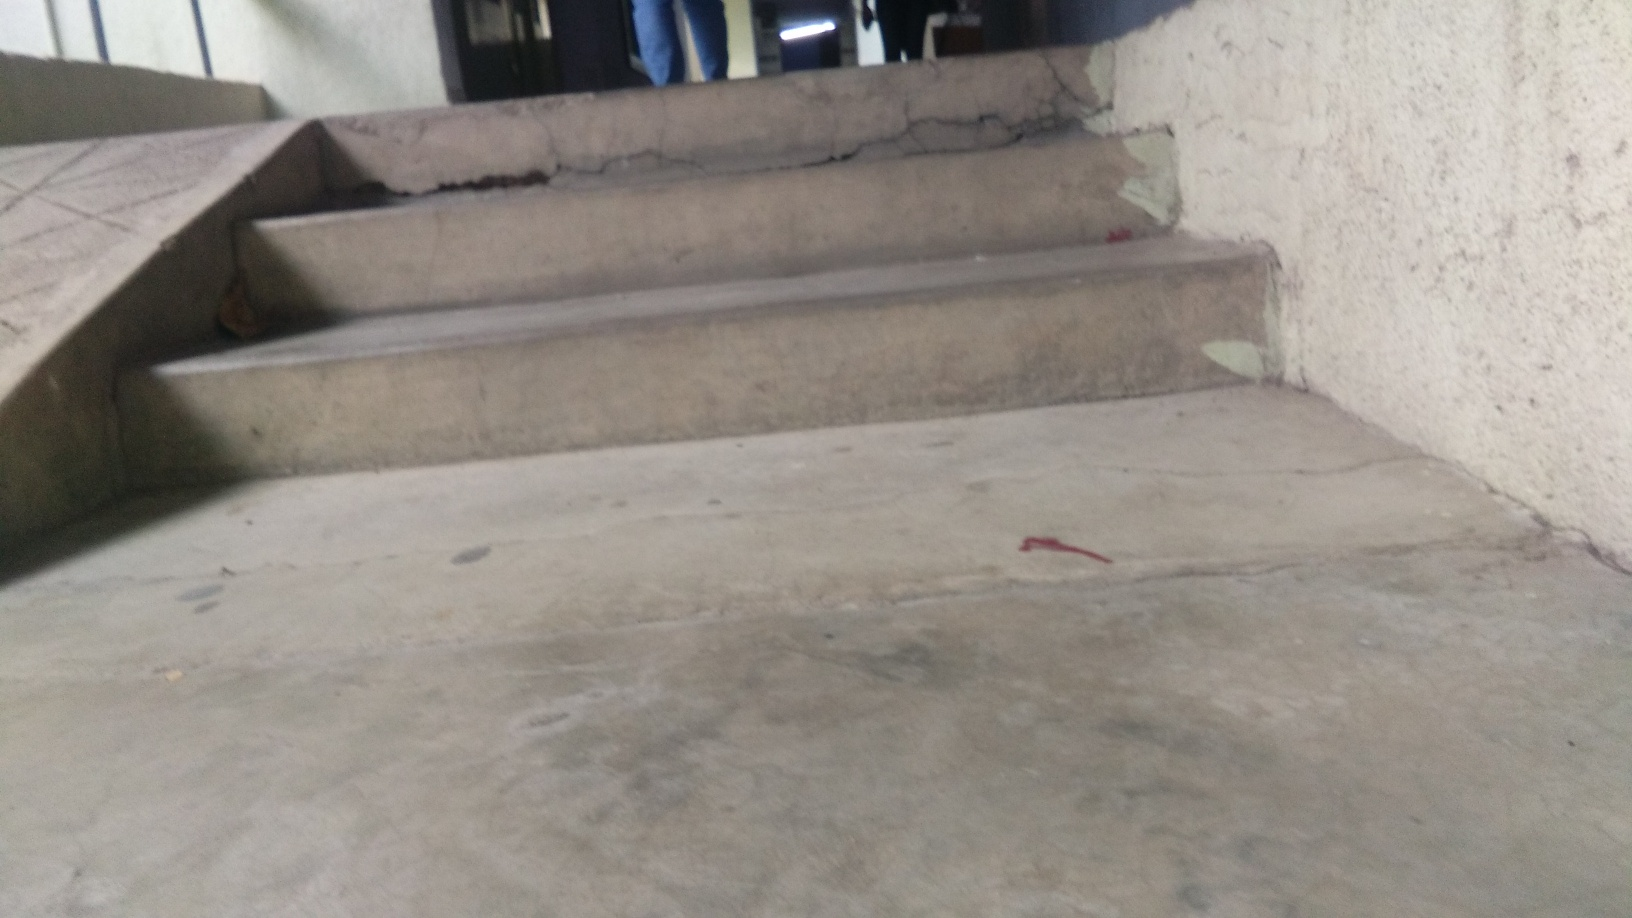stairs_up: (161, 89, 1306, 458)
